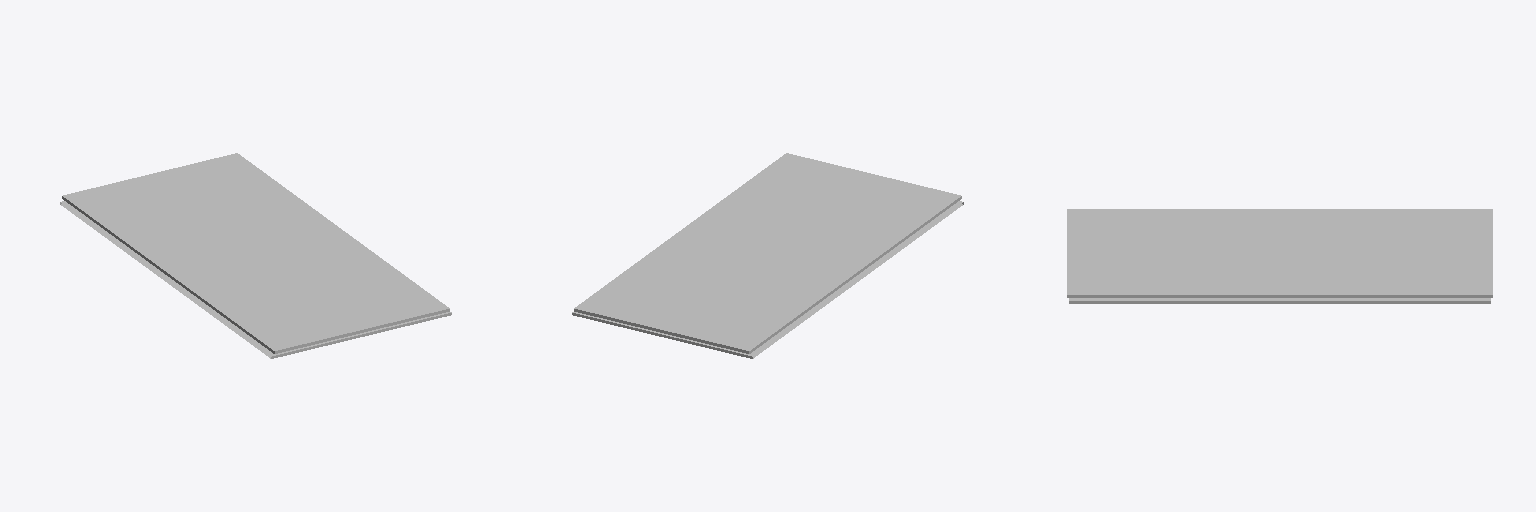
Rendered from Roof.001.obj.
3 renders of one model, left to right at view 1: azimuth 30°, elevation 25°; view 2: azimuth 150°, elevation 25°; view 3: azimuth 270°, elevation 25°, orthographic.
Visible parts, largest first — view 1: Roof.001_Cube.027; view 2: Roof.001_Cube.027; view 3: Roof.001_Cube.027.
Boxes of the visible parts, box(x1,y1,x2,y2) form: Roof.001_Cube.027: box(60, 153, 451, 358); Roof.001_Cube.027: box(572, 153, 963, 358); Roof.001_Cube.027: box(1067, 209, 1492, 303).
Size of the model in its own units: 16.96 by 0.7027 by 34.63.